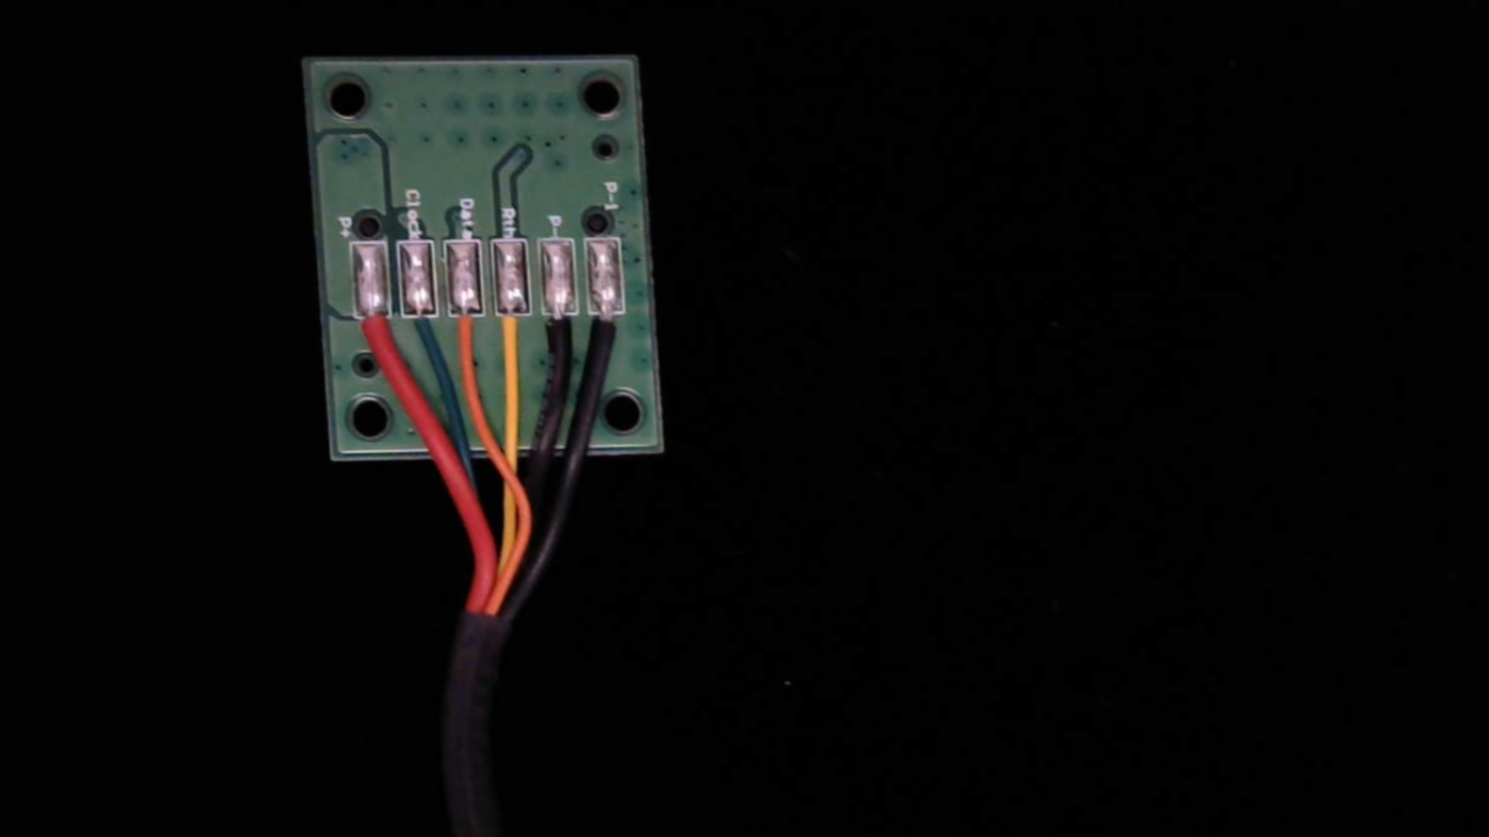Black: (541, 299, 581, 375)
Black1: (587, 298, 630, 379)
Green: (401, 296, 440, 361)
Orange: (445, 296, 487, 372)
Red: (352, 299, 397, 373)
Yellow: (494, 297, 534, 373)
